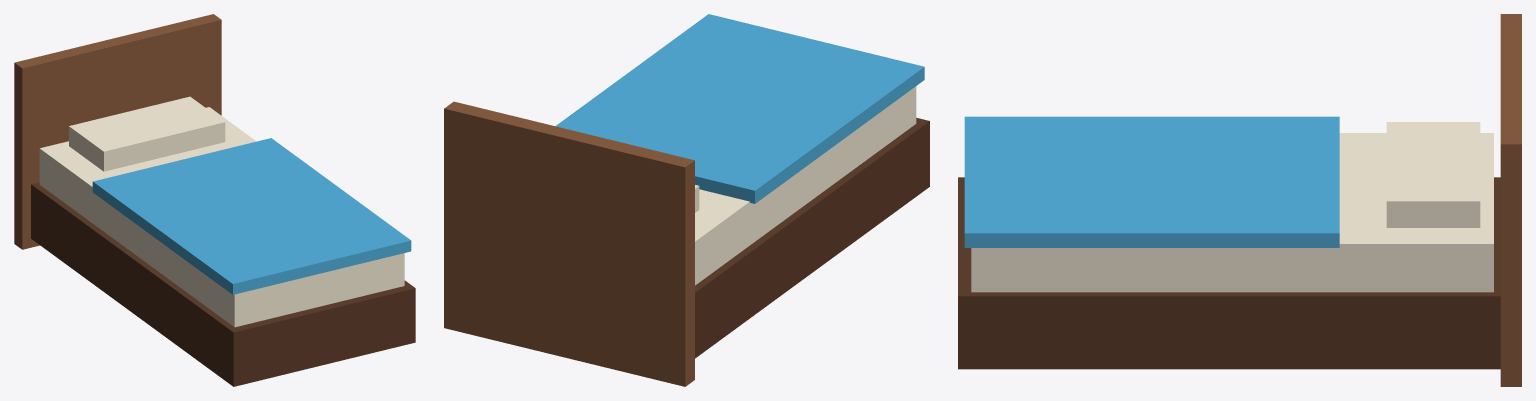
Rendered from bed.glb.
3 views of the same model, side by side, from view 1: azimuth 30°, elevation 25°; view 2: azimuth 150°, elevation 25°; view 3: azimuth 270°, elevation 25° (orthographic). The views are drawn at different scales.
Visible parts, largest first — view 1: Box3, Box1, Box5, Box2, Box4; view 2: Box5, Box3, Box1, Box2; view 3: Box3, Box1, Box2, Box4, Box5.
Part boxes in pixels (box(x1,y1,x2,y2)): Box3: box(92, 138, 411, 294); Box1: box(31, 182, 415, 386); Box5: box(14, 14, 221, 249); Box2: box(39, 107, 404, 327); Box4: box(69, 96, 225, 171); Box5: box(444, 101, 694, 386); Box3: box(555, 14, 924, 203); Box1: box(695, 117, 929, 358); Box2: box(695, 86, 916, 285); Box3: box(964, 116, 1339, 247); Box1: box(958, 177, 1500, 369); Box2: box(971, 133, 1493, 292); Box4: box(1386, 122, 1480, 227); Box5: box(1500, 14, 1521, 386).
Size of the model in its own units: 1.15 by 1 by 2.1.
